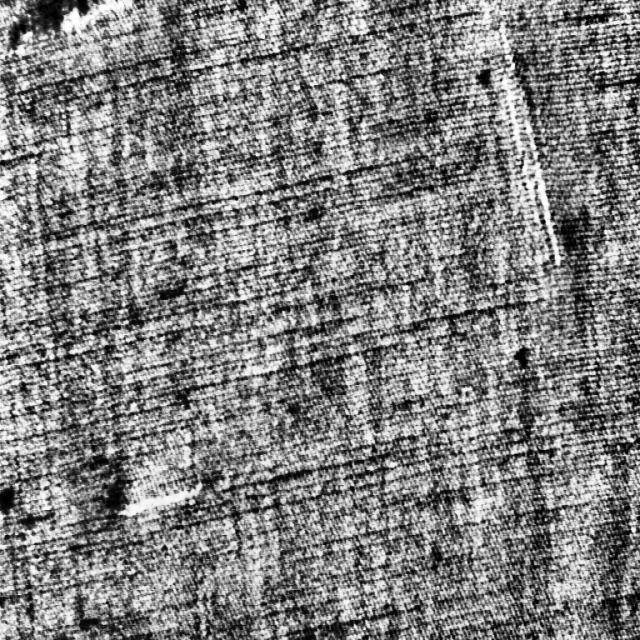Stitch: (496, 16, 562, 275), (3, 0, 131, 61), (101, 455, 198, 516)
